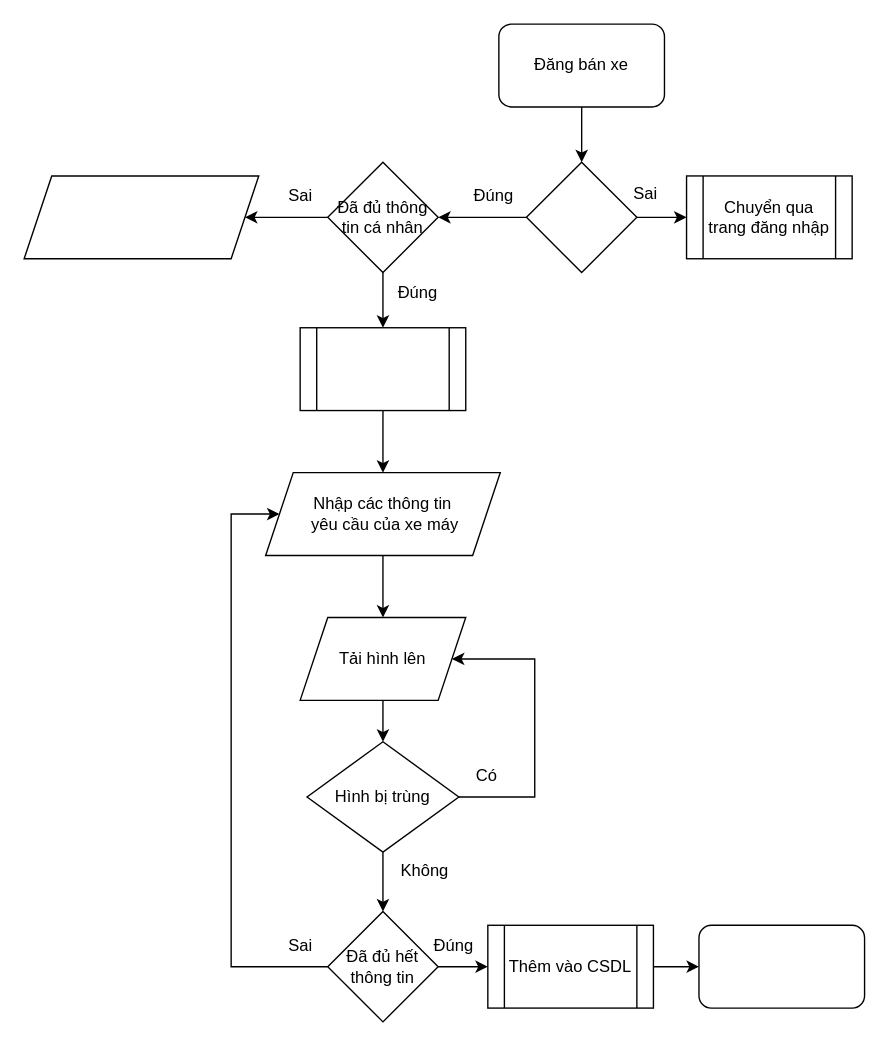
This 889x1046 diagram has some shape labels left out. The shapes that lost their labels are listed below. From the top down, each one's centre as x and y in pixels, then its label:
At (141,217): "Còn thông tin cá nhân chưa được nhập!".
At (581,217): "Đã đăng nhập".
At (382,368): "Tải dữ liệu JSON xe máy".
At (781,966): "Đăng thành công".
